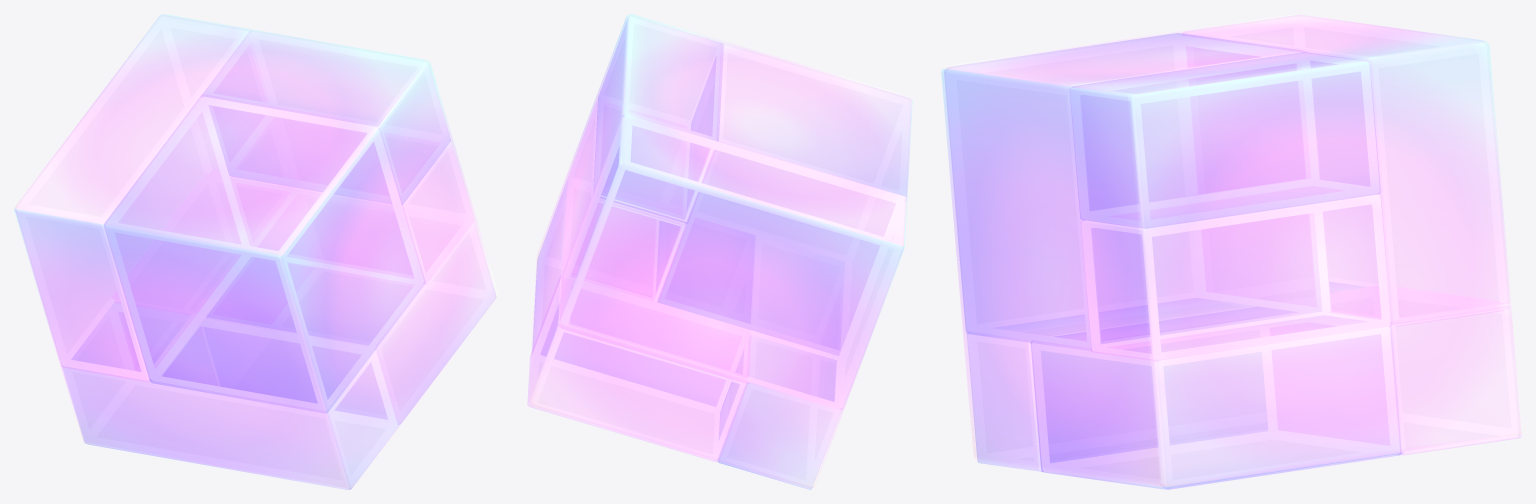
File: Куб Оригинал (1).glb
The picture shows the model from 3 angles, left to right: view 1: azimuth 30°, elevation 25°; view 2: azimuth 150°, elevation 25°; view 3: azimuth 270°, elevation 25°; orthographic projection. The views are drawn at different scales.
Visible parts, largest first — view 1: Box_8, Box_6_4, Box_6_5, Box_6, Box_6_3, Box_5, Box_7, Box_1, Box_9, Box, Box_2, Box_4 (+2 smaller); view 2: Box_8, Box_6_5, Box_6_4, Box_6_1, Box_2, Box_7, Box_6_3, Box_5, Box_6, Box_1, Box_4, Box (+3 smaller); view 3: Box_8, Box_9, Box_6_3, Box_6_4, Box_6_2, Box_6_5, Box_6_1, Box_5, Box, Box_4, Box_2, Box_7 (+3 smaller).
Boxes of the visible parts, <box> form: Box_8: <box>14,14,498,489</box>; Box_6_4: <box>104,95,424,412</box>; Box_6_5: <box>15,15,249,381</box>; Box_6: <box>62,350,398,489</box>; Box_6_3: <box>203,31,450,204</box>; Box_5: <box>105,96,423,410</box>; Box_7: <box>17,16,291,380</box>; Box_1: <box>62,303,397,488</box>; Box_9: <box>376,222,495,424</box>; Box: <box>204,194,495,423</box>; Box_2: <box>116,181,313,386</box>; Box_4: <box>202,32,450,203</box>; Box_8: <box>529,14,912,487</box>; Box_6_5: <box>560,114,905,409</box>; Box_6_4: <box>717,43,911,197</box>; Box_6_1: <box>527,275,746,461</box>; Box_2: <box>529,278,748,460</box>; Box_7: <box>560,115,904,408</box>; Box_6_3: <box>593,16,721,192</box>; Box_5: <box>657,45,910,355</box>; Box_6: <box>718,382,840,489</box>; Box_1: <box>718,237,844,488</box>; Box_4: <box>593,17,722,222</box>; Box: <box>533,181,754,351</box>; Box_8: <box>941,14,1521,488</box>; Box_9: <box>1031,325,1401,489</box>; Box_6_3: <box>1070,52,1379,228</box>; Box_6_4: <box>944,33,1305,350</box>; Box_6_2: <box>1081,194,1390,360</box>; Box_6_5: <box>1183,15,1508,319</box>; Box_6_1: <box>1390,303,1521,455</box>; Box_5: <box>945,35,1321,348</box>; Box: <box>1032,307,1400,489</box>; Box_4: <box>1070,53,1379,227</box>; Box_2: <box>1270,290,1518,454</box>; Box_7: <box>1184,16,1507,325</box>.
Size of the model in its own units: 6.09 by 5.05 by 5.48.
Materials: 14 (7 with a texture image).
